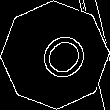O_SW: (22, 22, 88, 88)
